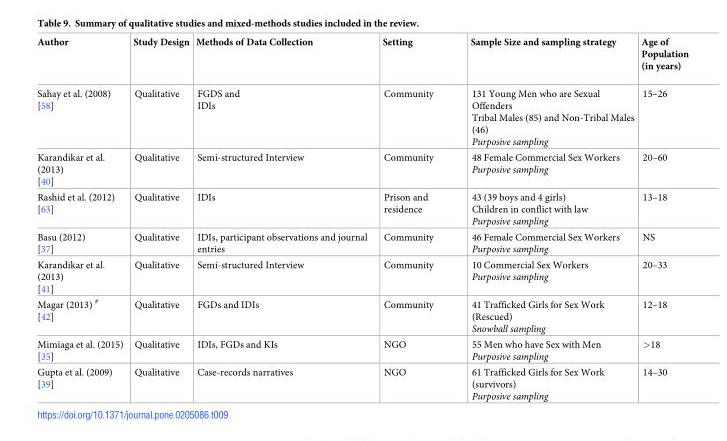table: (36, 36, 687, 402)
table column: (451, 36, 637, 402), (191, 36, 374, 402), (36, 36, 127, 402), (374, 36, 451, 402), (127, 36, 191, 402), (637, 36, 687, 402)
table column header: (36, 36, 687, 79)
table row: (36, 79, 687, 149), (36, 36, 687, 79), (36, 295, 687, 336), (36, 149, 687, 189), (36, 189, 687, 229), (36, 257, 687, 295), (36, 364, 687, 402), (36, 229, 687, 257), (36, 336, 687, 364)
